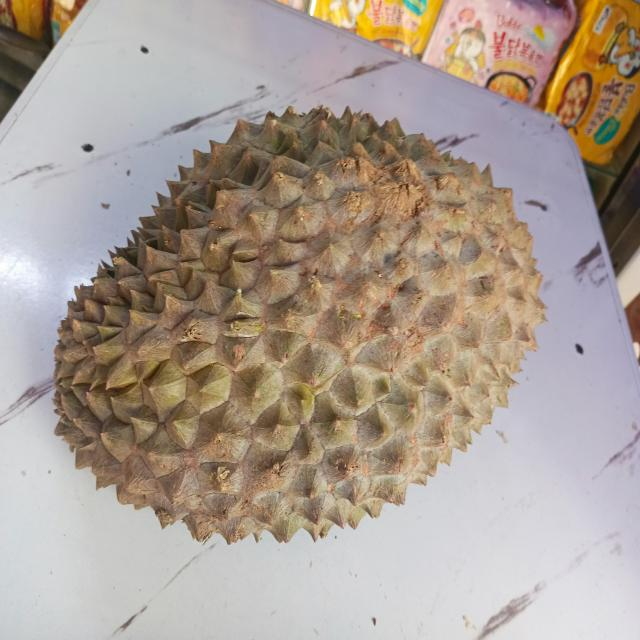mature: (46, 94, 542, 554)
